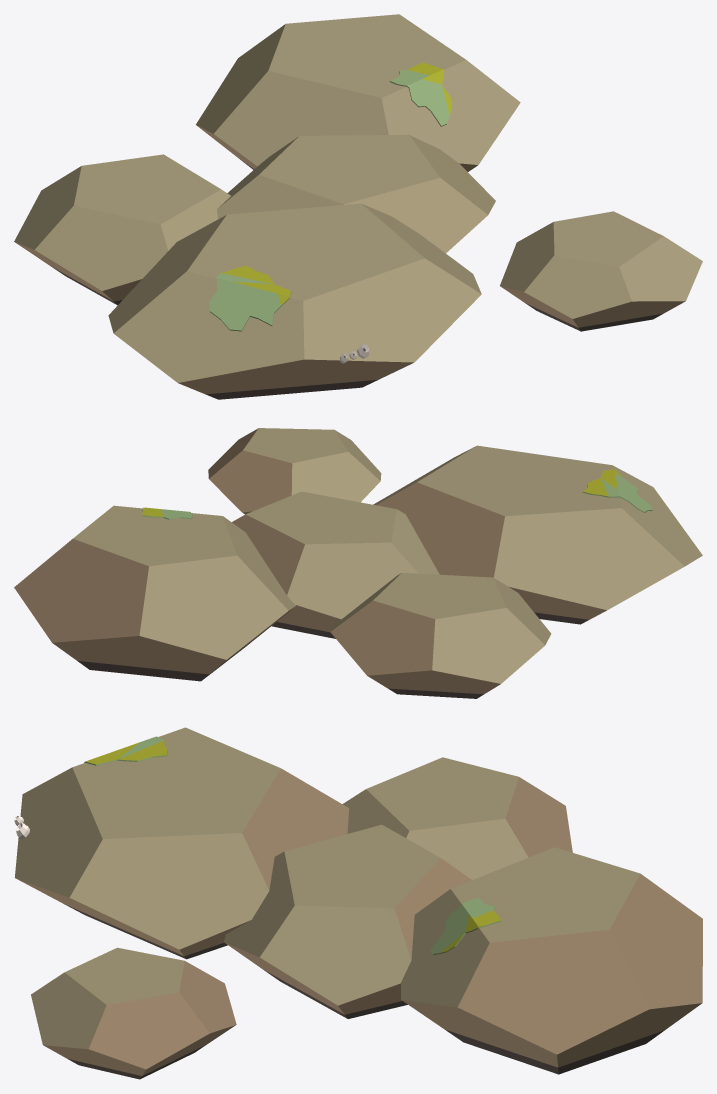
File: tropicalRockFlat.glb
3 renders of one model, top to bottom at view 1: azimuth 30°, elevation 25°; view 2: azimuth 150°, elevation 25°; view 3: azimuth 270°, elevation 25°, orthographic. The views are drawn at different scales.
Visible parts, largest first — view 1: tropicalRockFlat; view 2: tropicalRockFlat; view 3: tropicalRockFlat.
Part boxes in pixels (x1=…): tropicalRockFlat: x1=14, y1=14, x2=702, y2=399; tropicalRockFlat: x1=14, y1=428, x2=702, y2=698; tropicalRockFlat: x1=14, y1=727, x2=702, y2=1079.
Bounding box in the file's own units: 2 × 0.44 × 2.
1 material, 1 textured.
